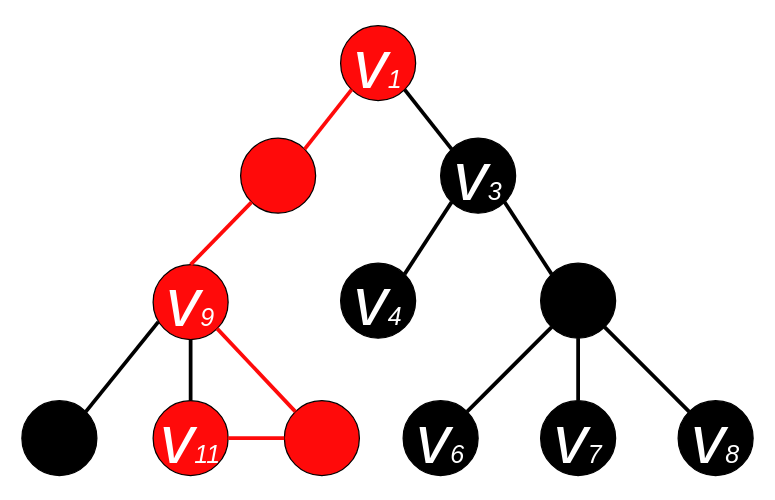
This 775x500 diagram has some shape labels left out. The shapes that lost their labels are listed below. From the top down, each one's box as (x1, y1, x2, y2) in pixels, then its label:
(239, 137, 316, 213): v 2
(539, 262, 616, 338): v 5
(21, 399, 97, 476): v 10
(283, 399, 359, 476): v 12
